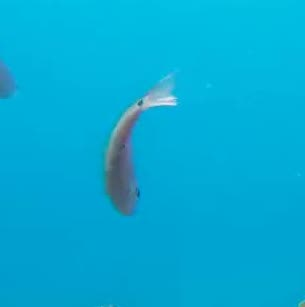smallfish: (93, 66, 176, 224)
